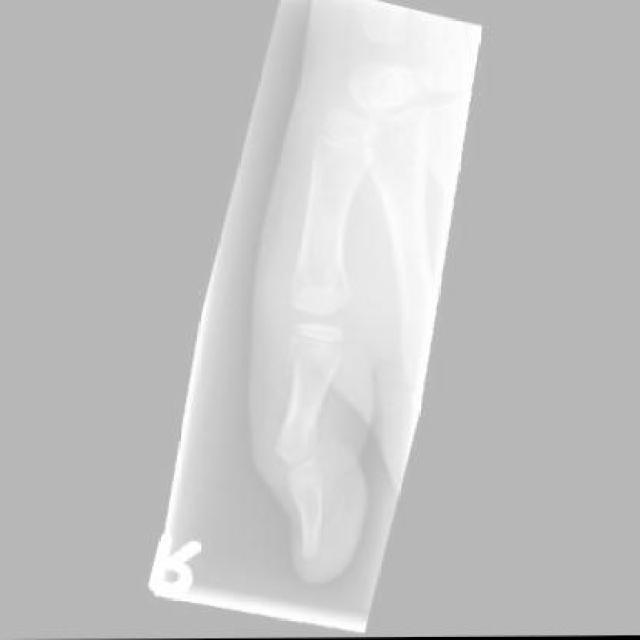Fracture: (280, 345, 305, 373)
